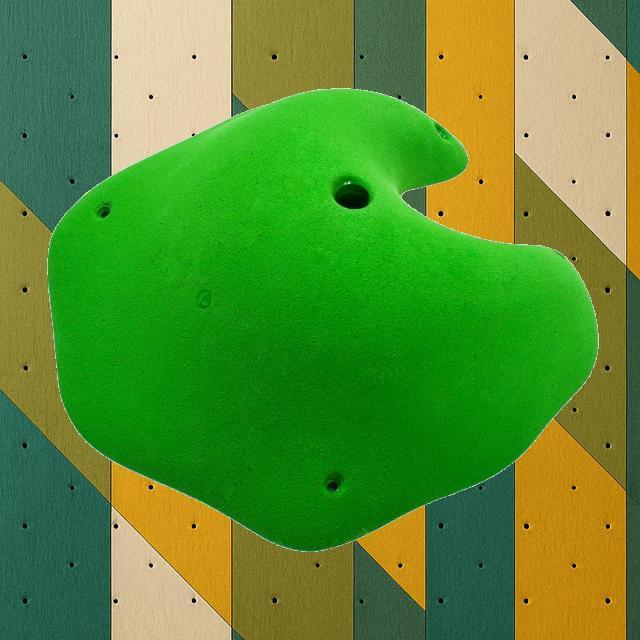Jug: (46, 86, 598, 552)
